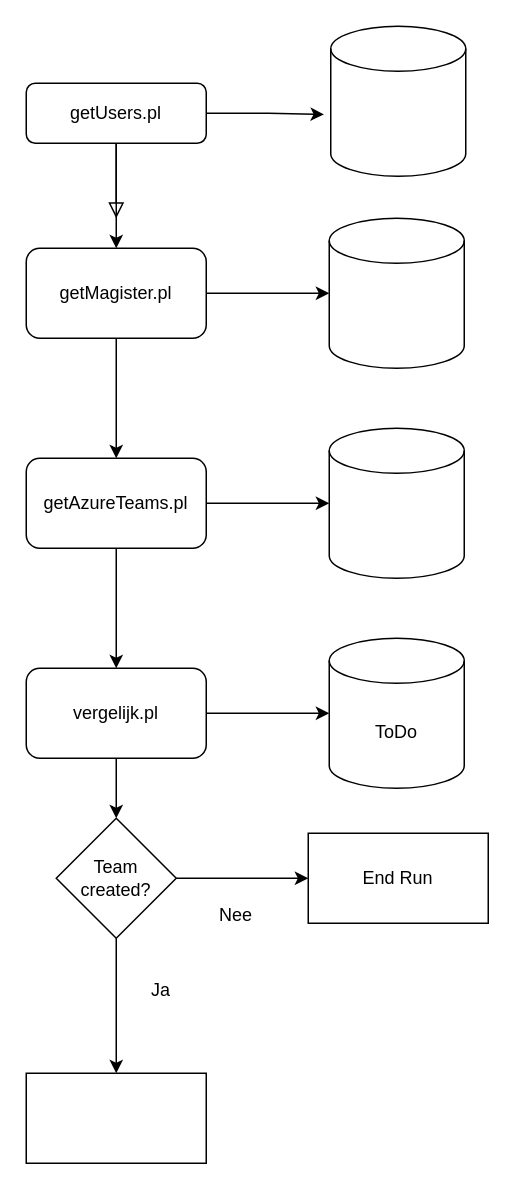
Image size: 515x1190. Some labels were removed from this diagram. Each missing label, with the centre of its shape:
"Azure Users" goes at (x=397, y=100).
"docRooster llnRooster" goes at (x=396, y=292).
"Team Team owners Team Members" goes at (x=396, y=502).
